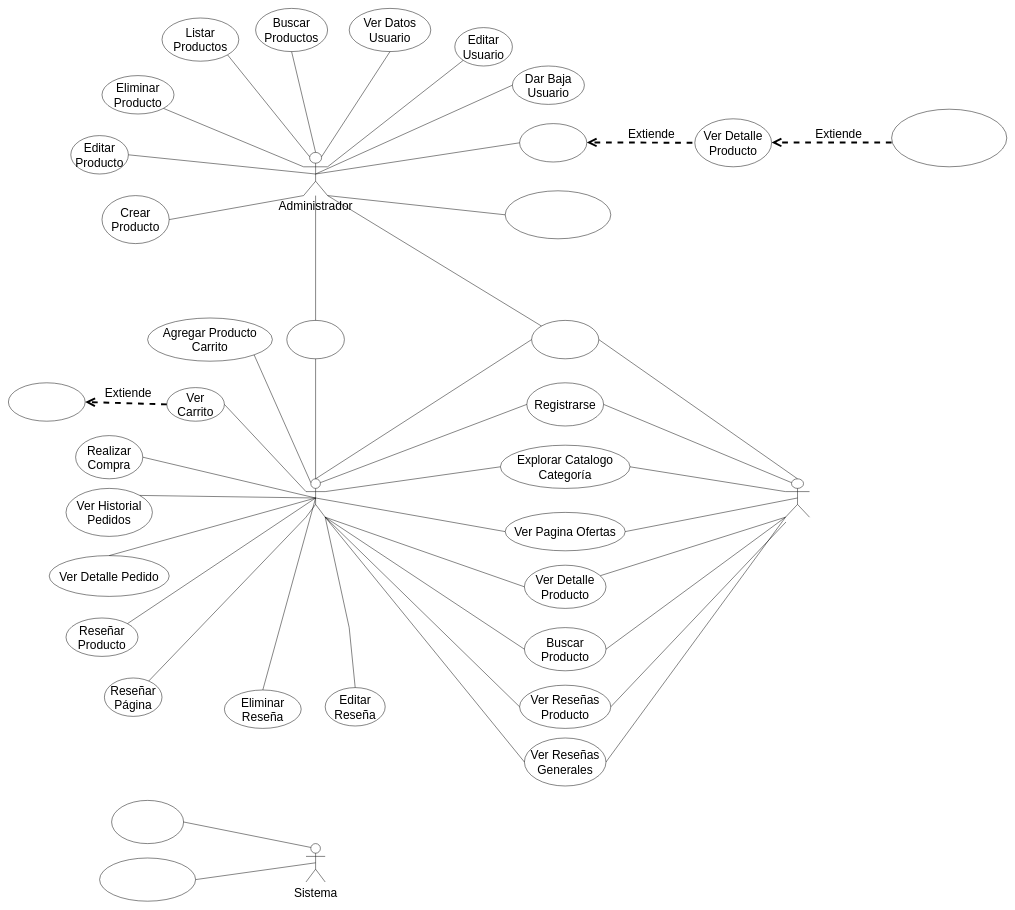
The diagram is 1015 pixels wide and 910 high, and some of its shapes have lost their labels. Here are the shapes that lost their labels. From the top down, the centre of each, then its label:
At point (553, 142): "Ver Lista Pedidos".
At point (949, 138): "Actualizar Estado Pedido".
At point (558, 214): "Ver Estadísticas".
At point (315, 339): "Cerrar sesion".
At point (565, 339): "Iniciar sesión".
At point (46, 401): "Gestionar Carrito".
At point (315, 497): "Cliente Autenticado".
At point (797, 497): "Cliente No Autenticado".
At point (147, 822): "Actualizar Stock".
At point (147, 879): "Aplicar Precio Oferta".
